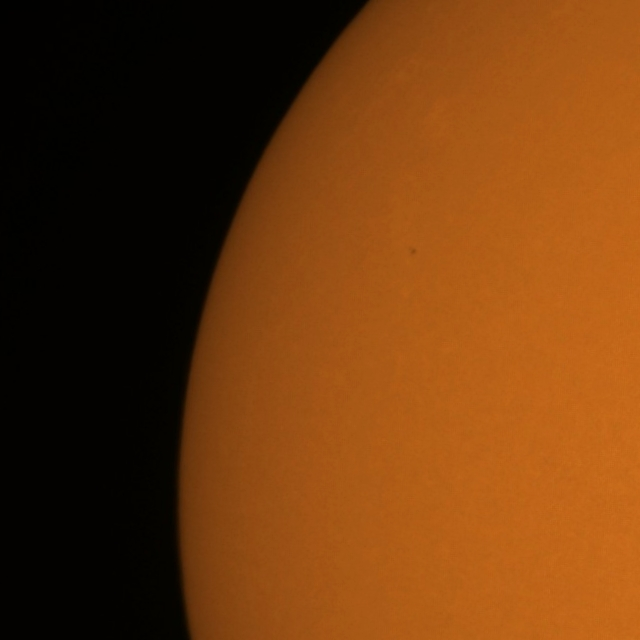sunspot: (408, 245, 418, 257)
